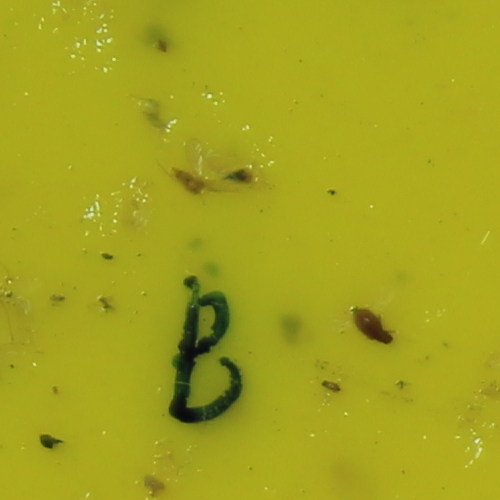psylla: (170, 166, 206, 199), (222, 166, 263, 183)
